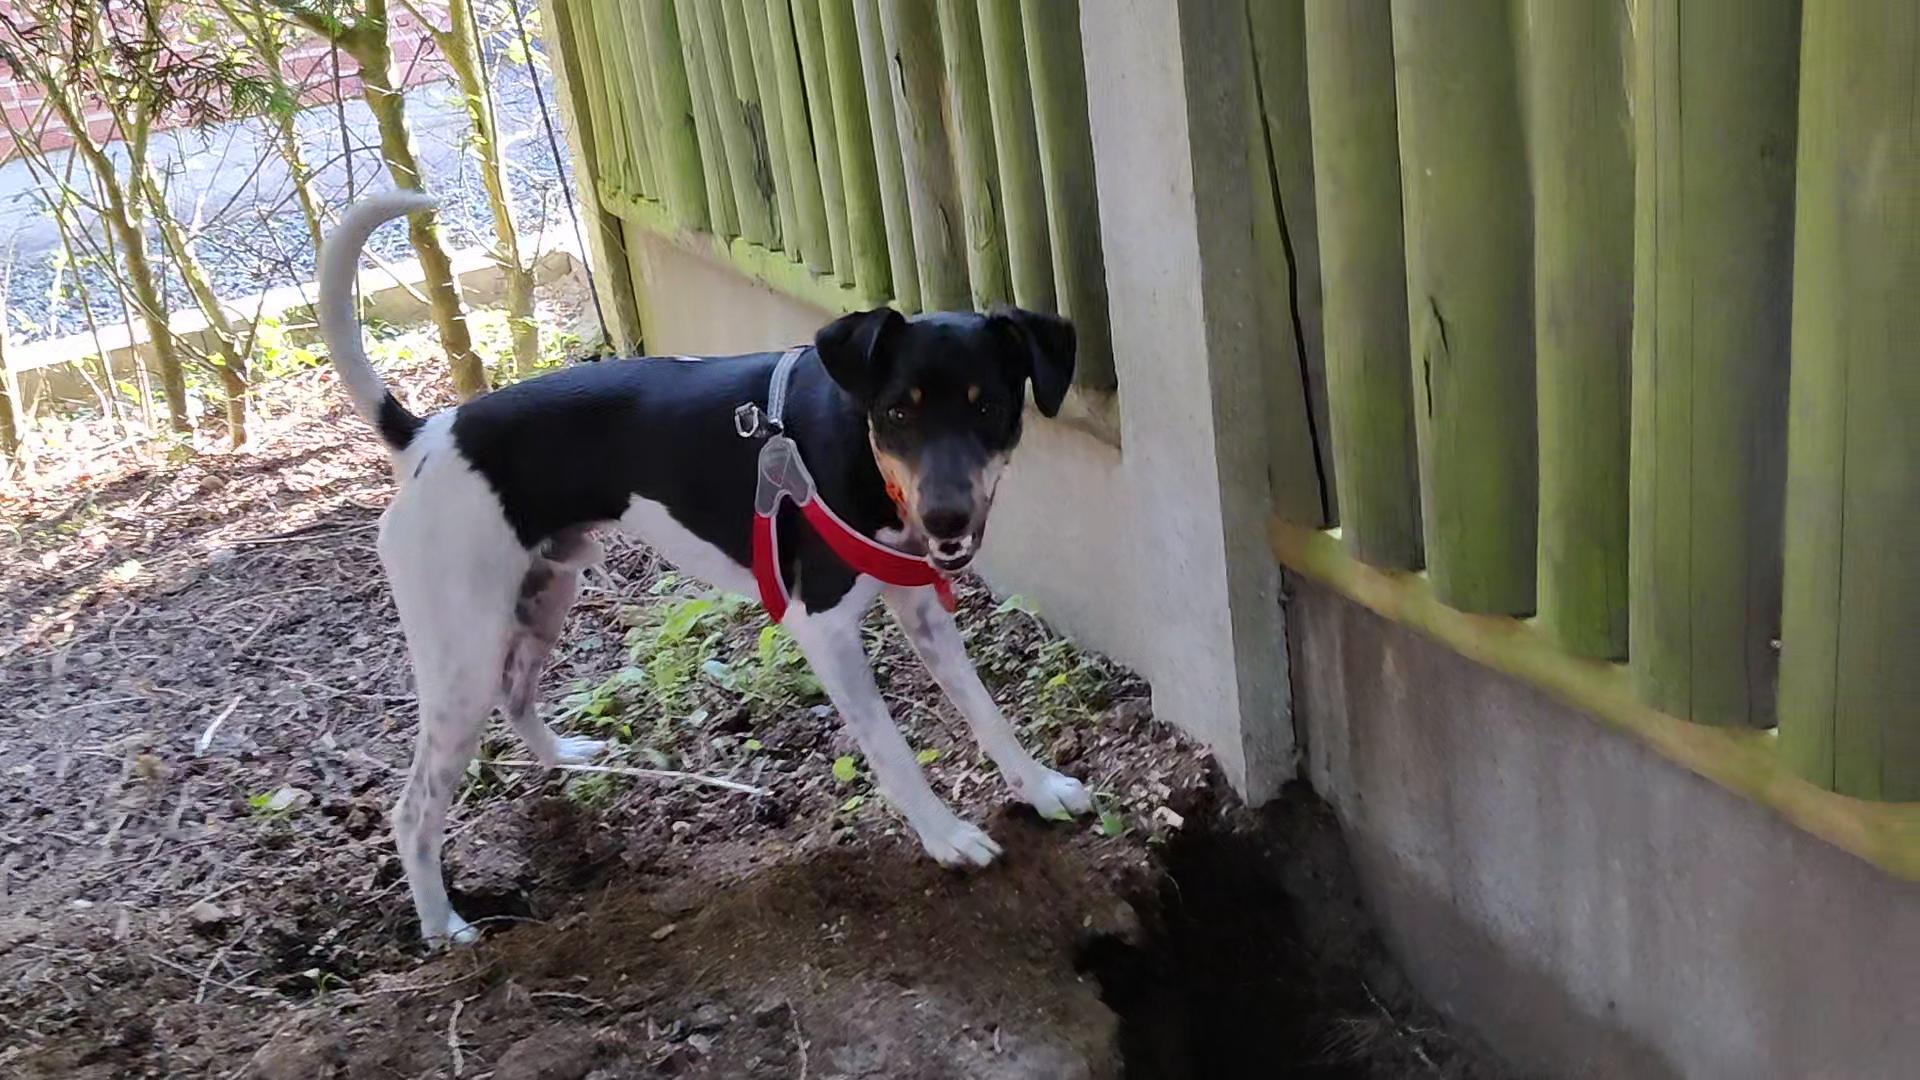Dog: (295, 175, 1113, 952)
